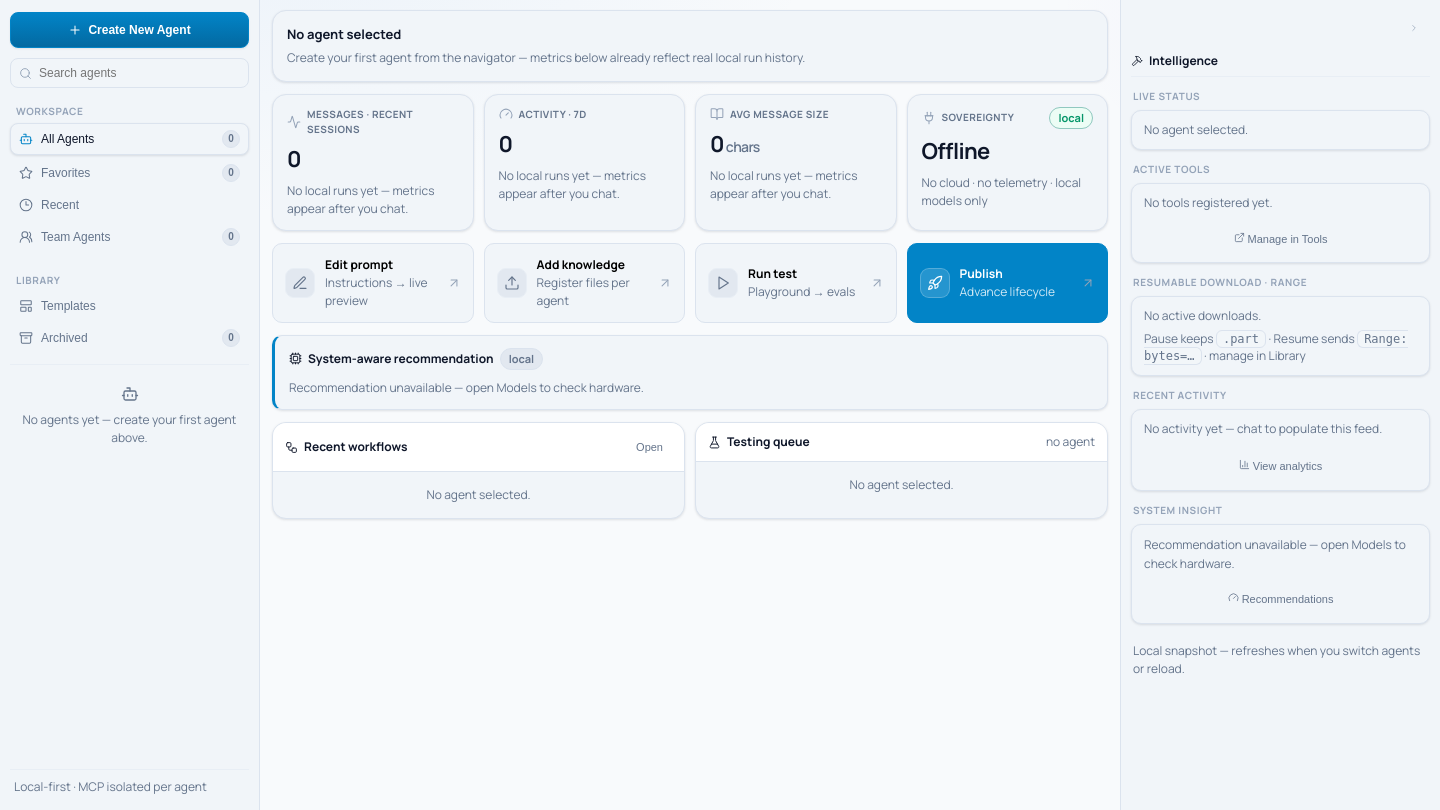
Test: Agent Studio — greenfield command center › switches dynamic workspace: Knowledge file explorer
Click the button "Create New Agent" at (130, 30), box x1=10 y1=12 x2=249 y2=48
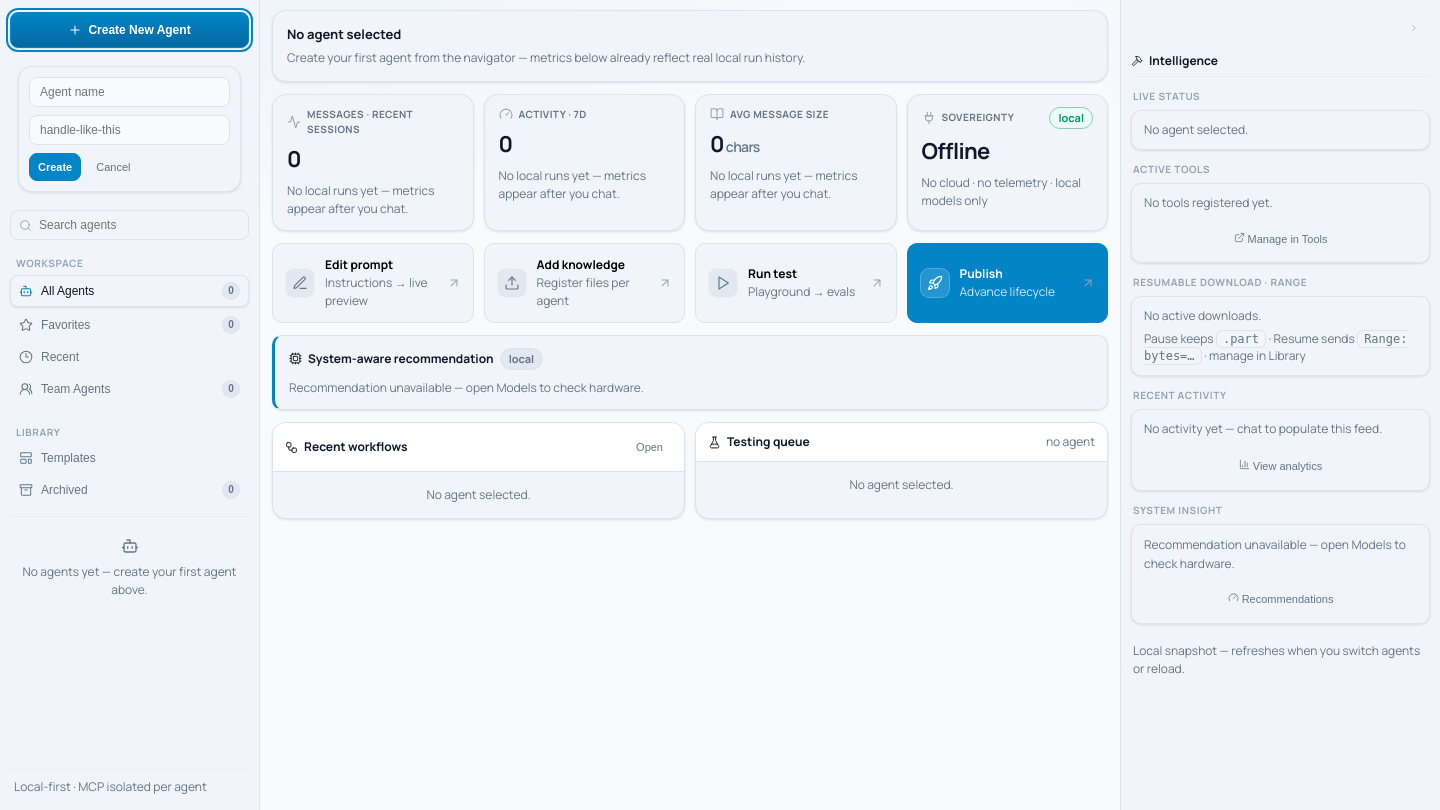
Type "Test Agent" into the field named "New agent name" at (130, 92), box x1=29 y1=77 x2=230 y2=107
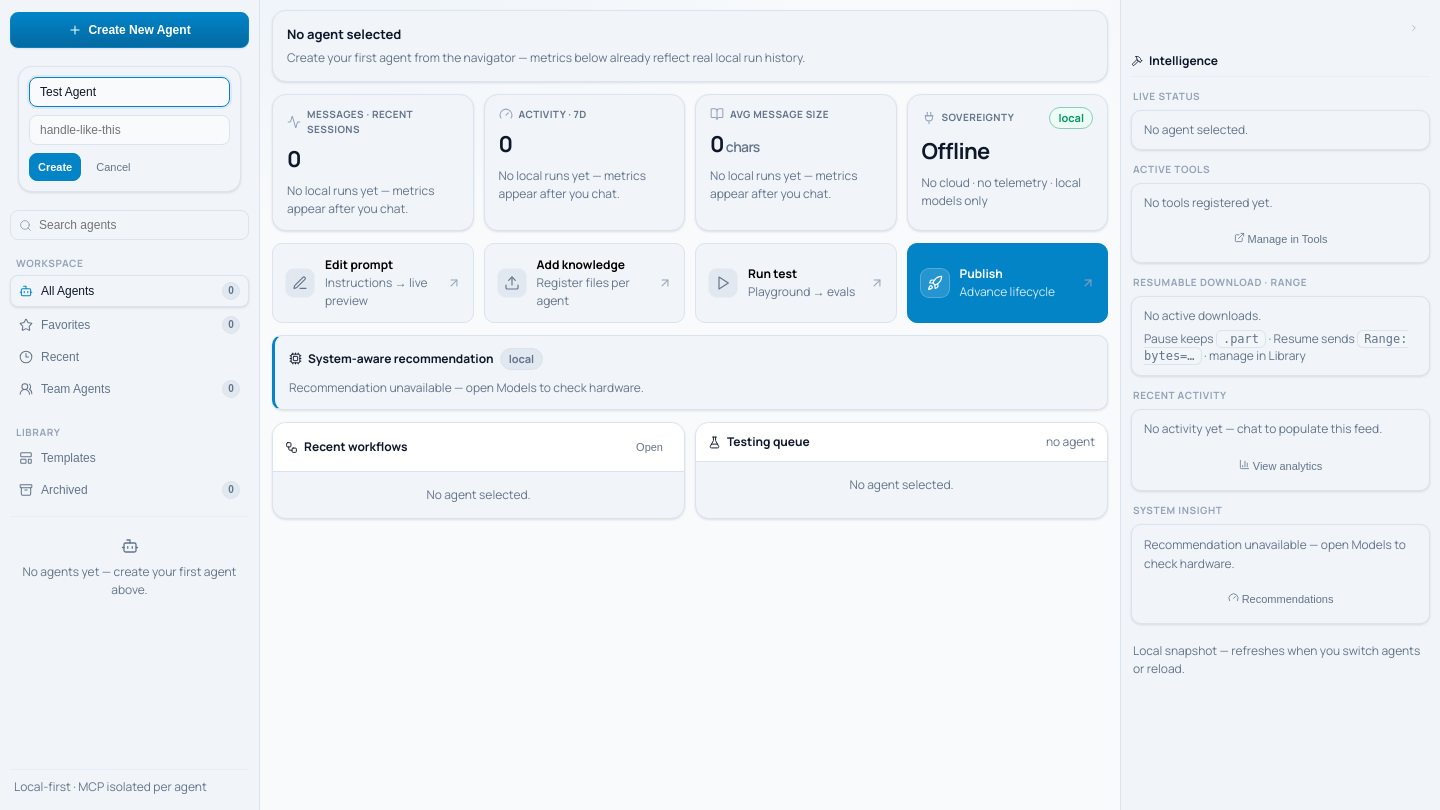
Type "test-agent" into the field named "New agent handle" at (130, 130), box x1=29 y1=115 x2=230 y2=145
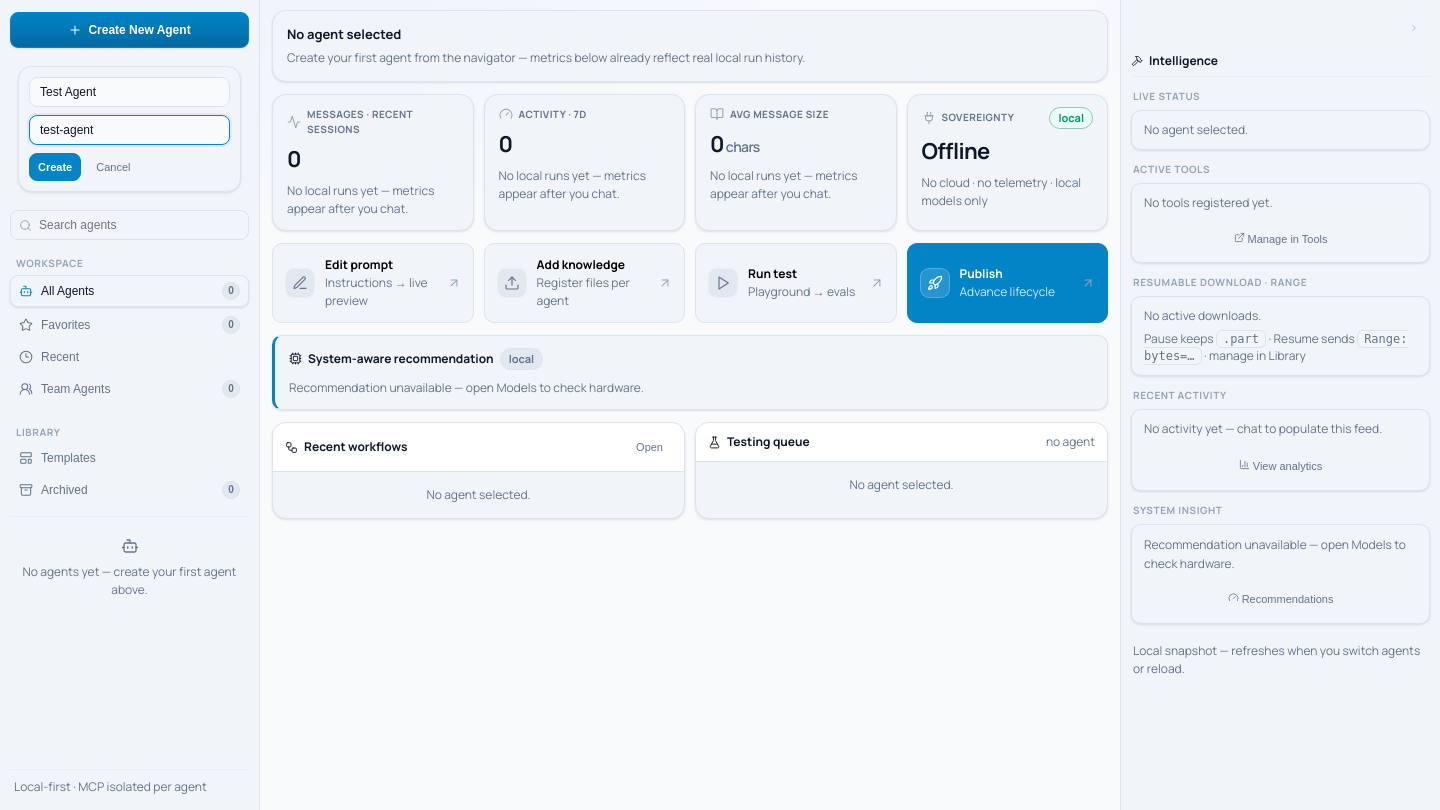
Click the button "Create" at (55, 167), box x1=29 y1=153 x2=81 y2=181
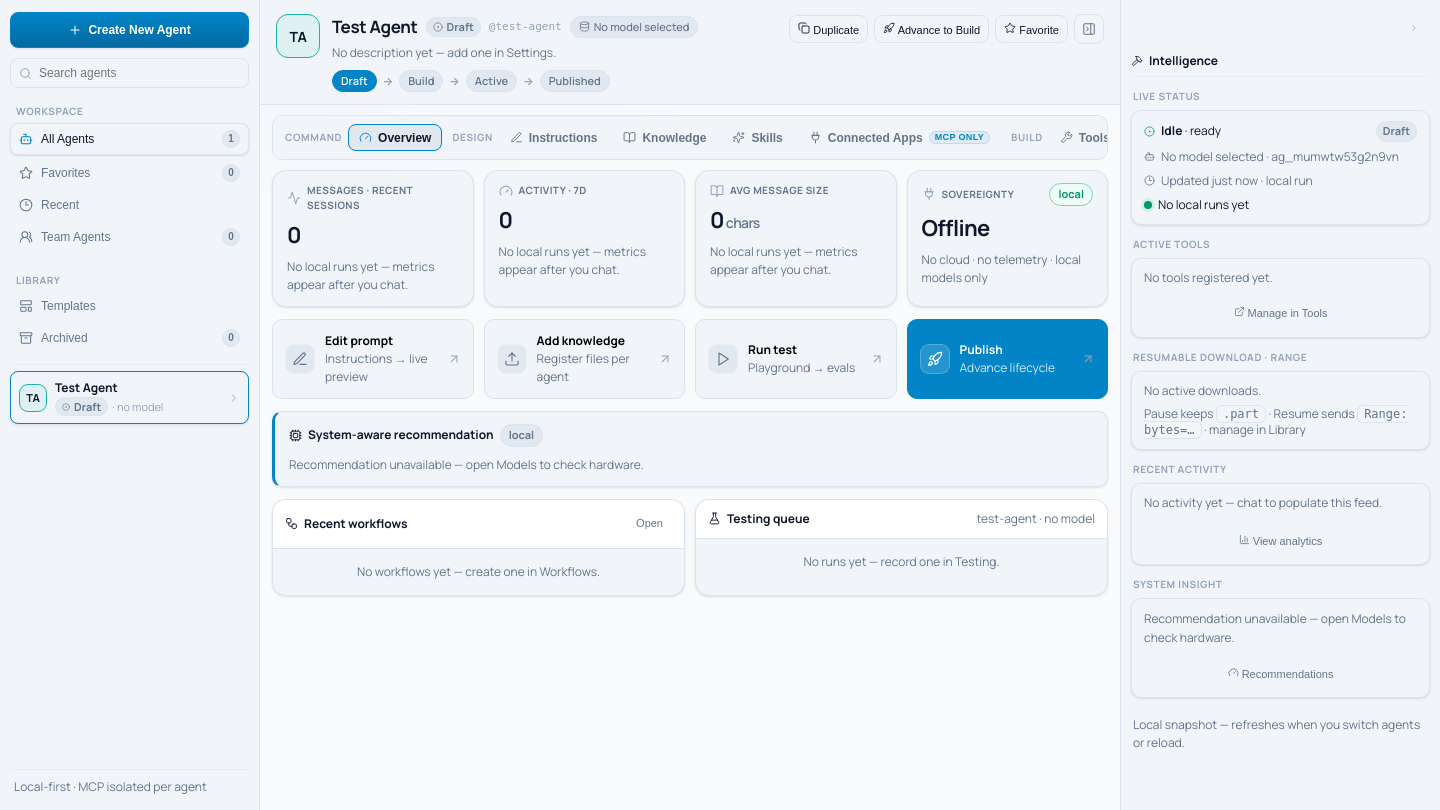
expect the tab "Overview" is shown: met, box x1=348 y1=124 x2=442 y2=151
Click the tab "Knowledge" at (665, 138), box x1=612 y1=124 x2=717 y2=151
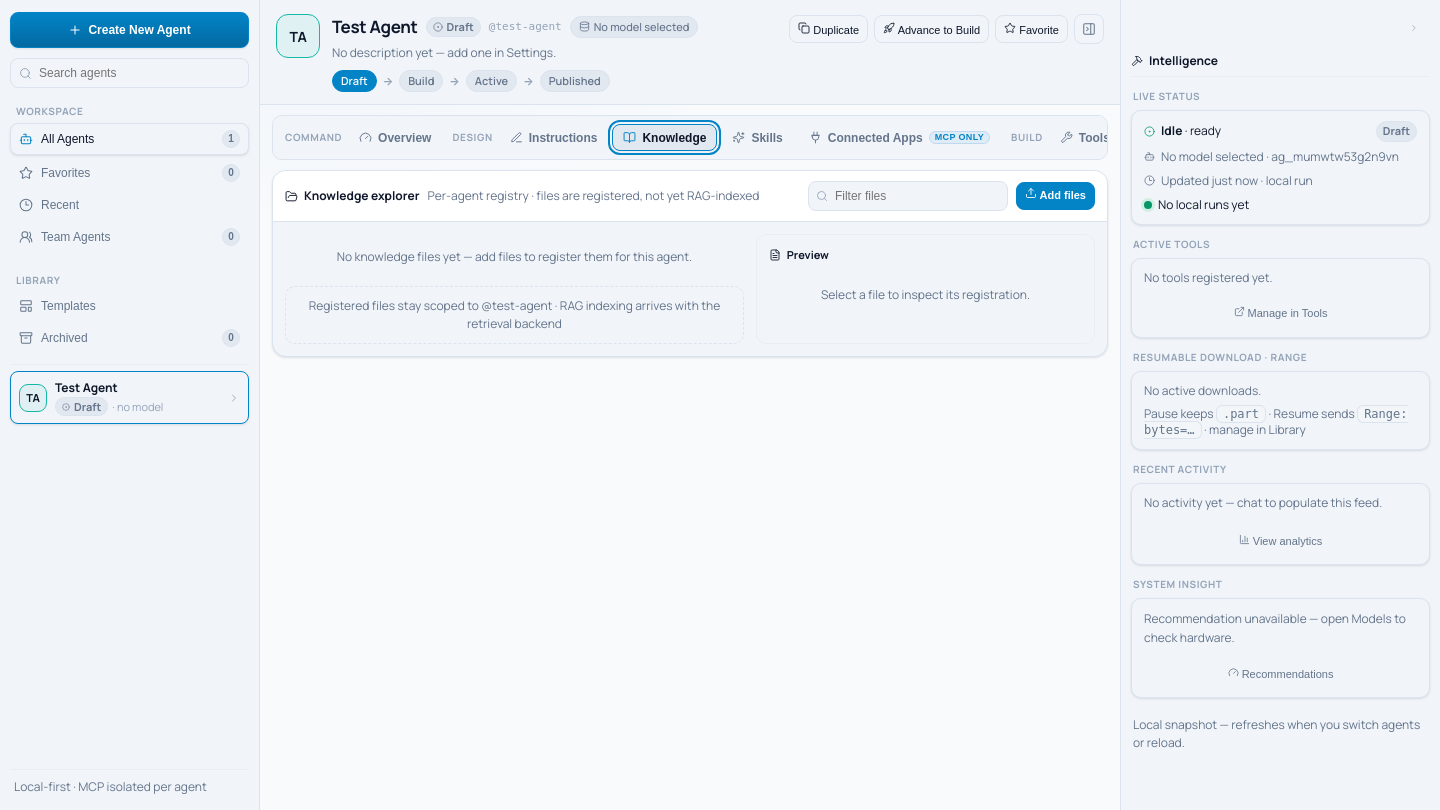
expect the text "Knowledge explorer" is shown: met, box x1=285 y1=187 x2=420 y2=205
expect the text "No knowledge files yet" is shown: met, box x1=337 y1=248 x2=692 y2=265
